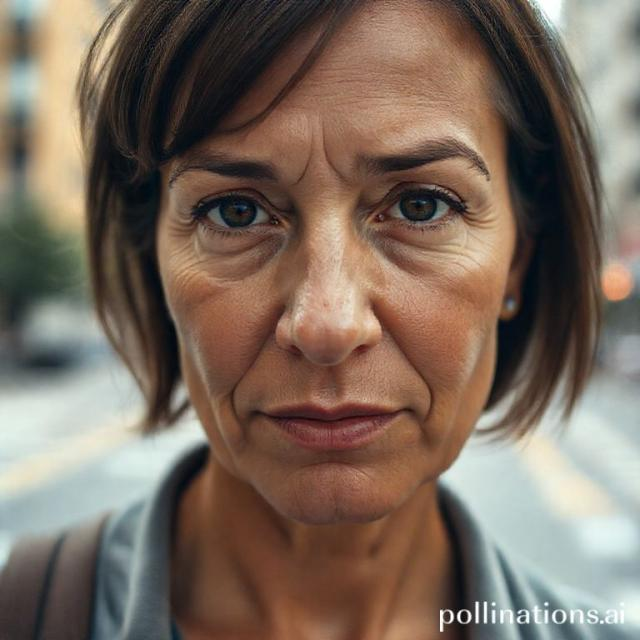0_rostro_limpio: (155, 0, 519, 523)
